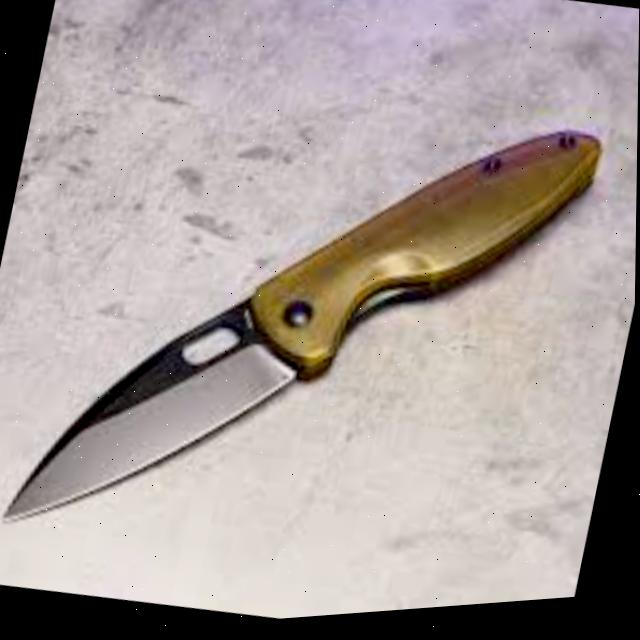knife: (0, 41, 605, 619)
